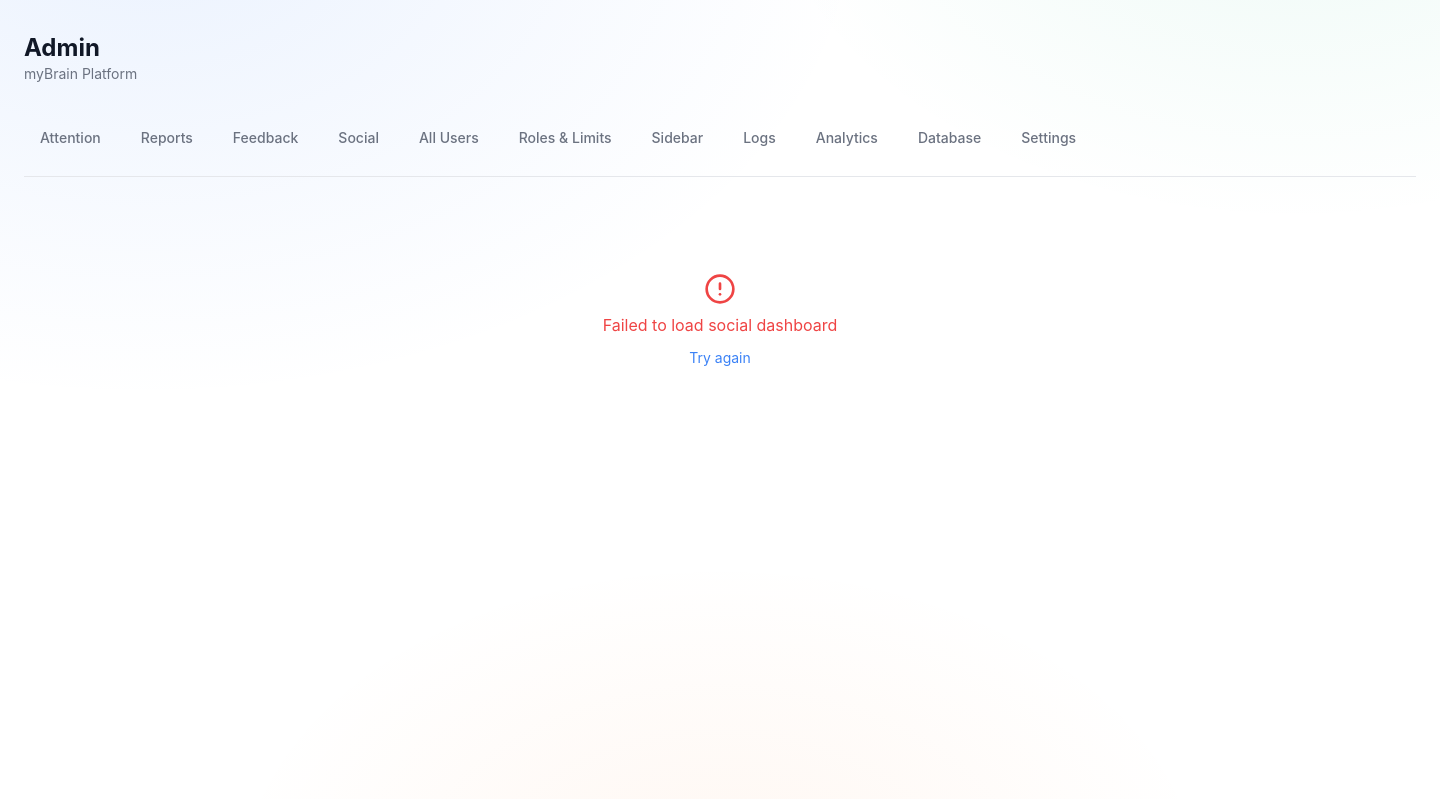
it: AdminSocialDashboardPage › Error State › shows dashboard after successful retry
The image size is (1440, 799).
Click the button "Try again" at coordinates (720, 358), box [689,348,751,368]
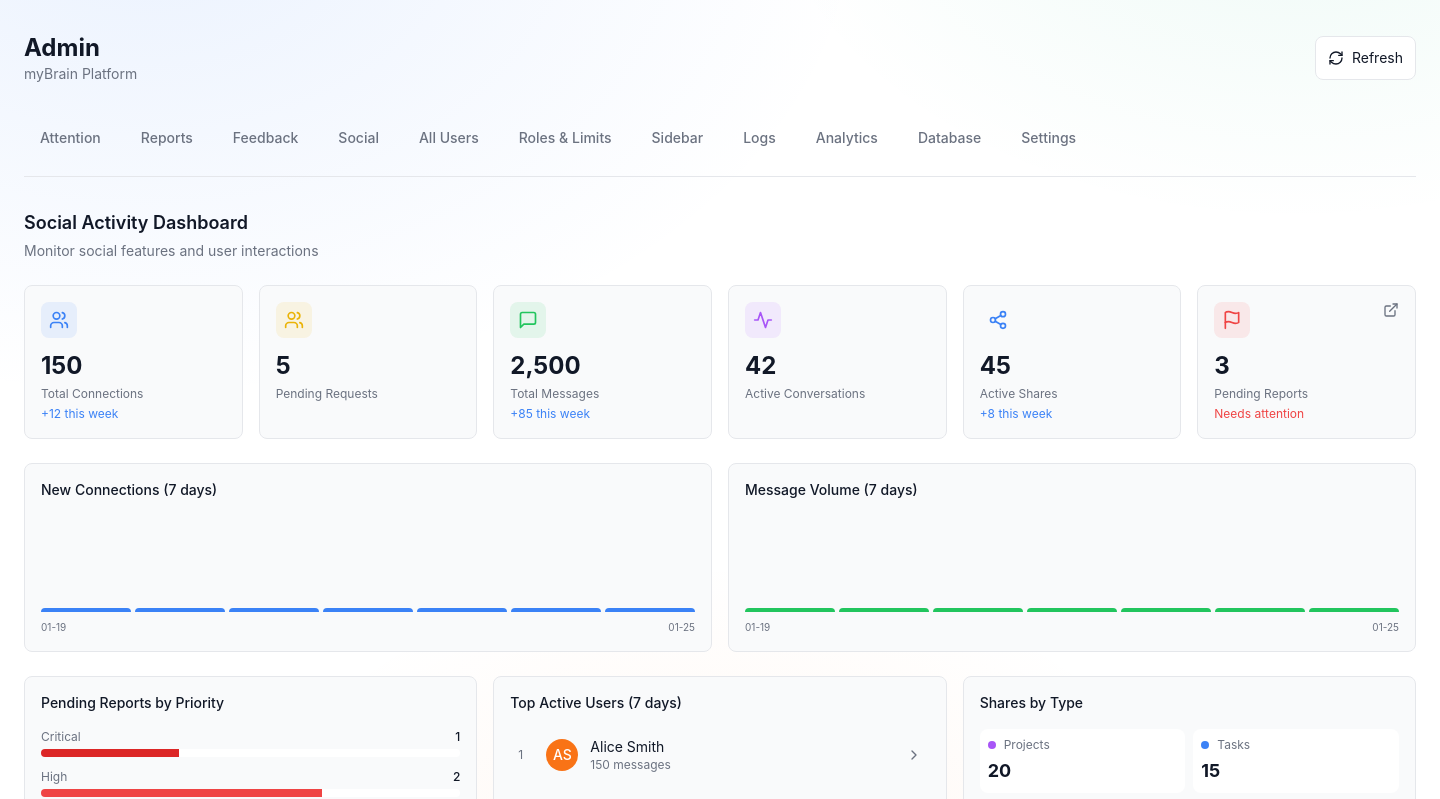
Now the heading "Social Activity Dashboard" is shown, box [24,212,248,233]
